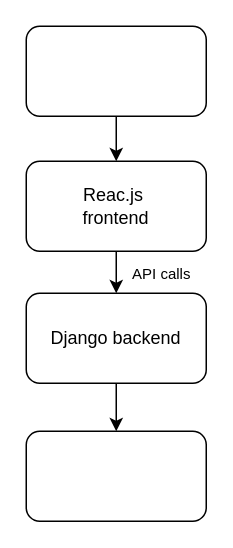
Some shapes in this 233 by 548 pixel diagram are drawn without their labels. Here are the shapes that lost their labels. From the top down, the centre of each, then its label:
At pixel 115 70: "CLIENT (web browser)".
At pixel 115 475: "MySQL database".
